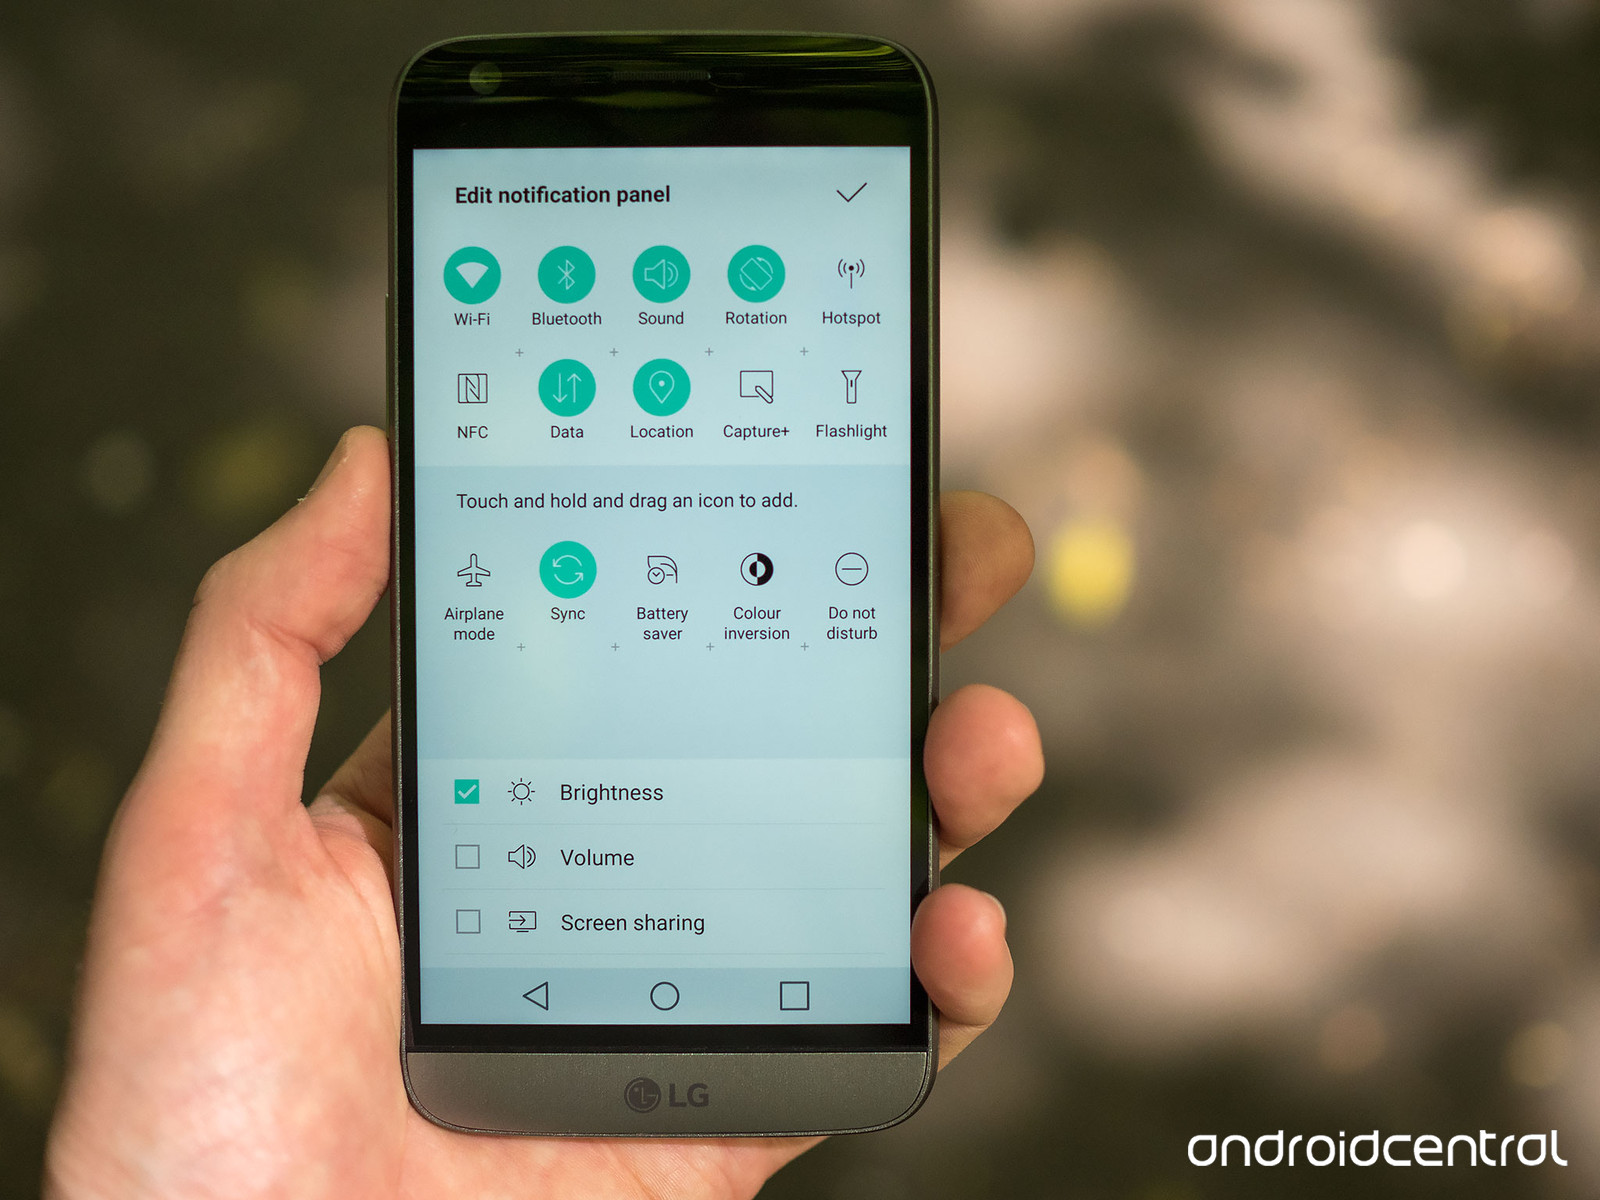smartphone: (383, 32, 942, 1141)
